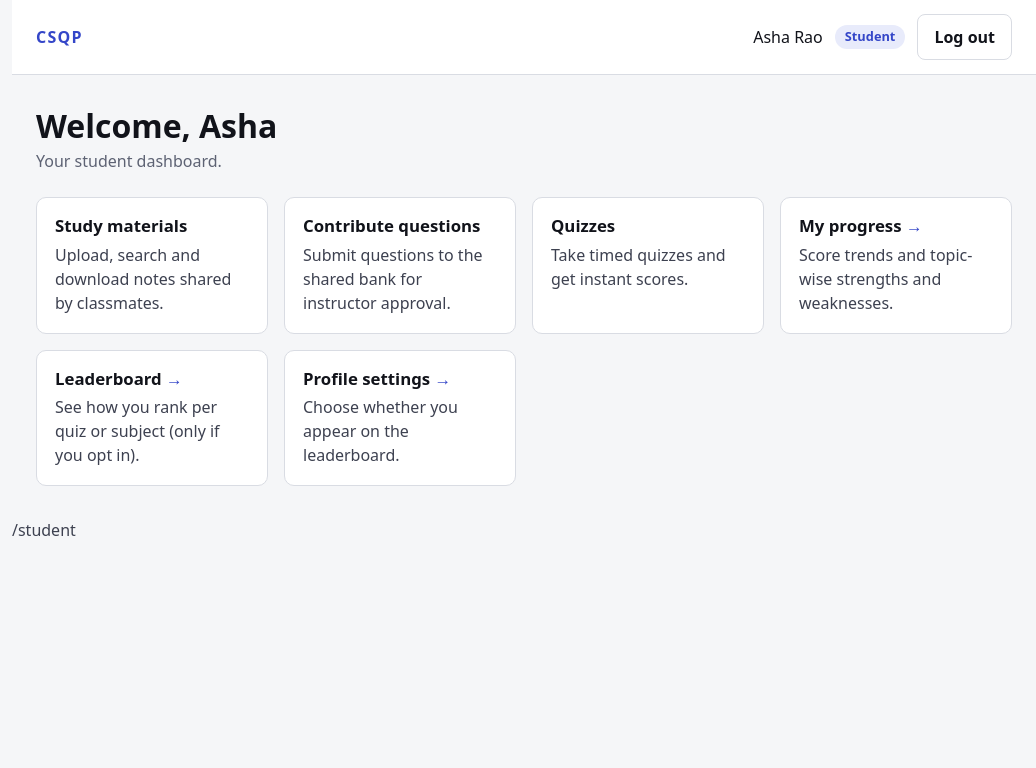
it: Leaderboard page (CSQP-29) › is linked from the student dashboard and ranks students with the viewer highlighted
The width and height of the screenshot is (1036, 768).
Click the link "Leaderboard" at (108, 378), box x1=55 y1=366 x2=162 y2=390
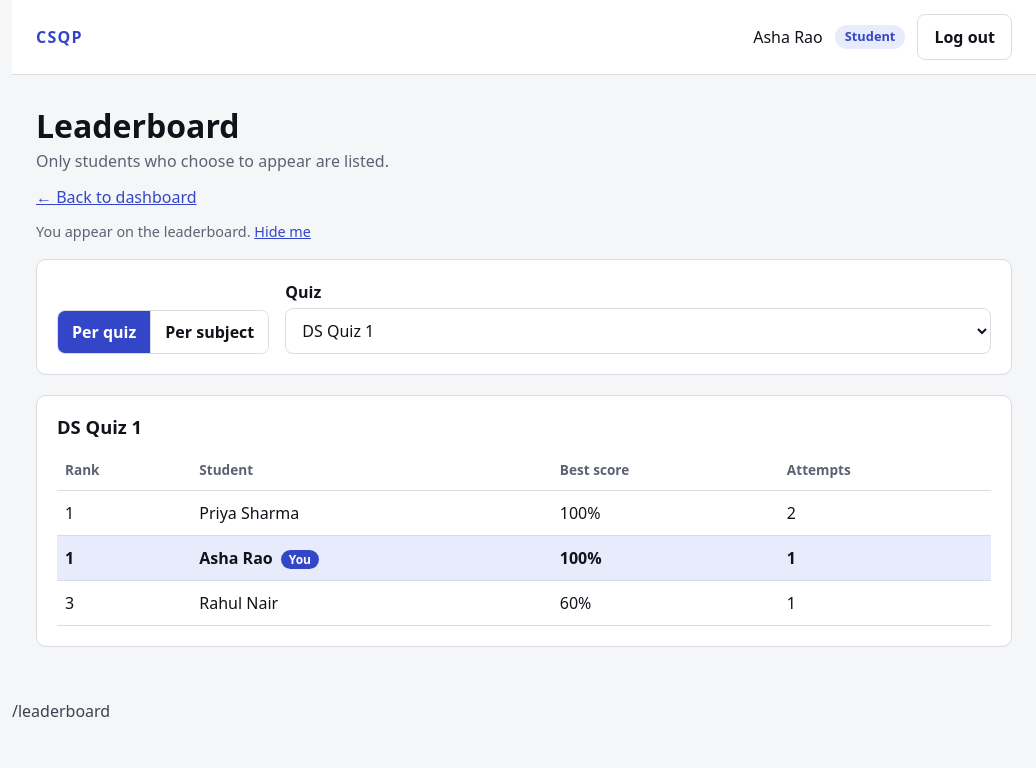
Now the number of rows is 4, box x1=57 y1=450 x2=991 y2=491; x1=57 y1=491 x2=991 y2=536; x1=57 y1=536 x2=991 y2=581; x1=57 y1=581 x2=991 y2=626
Now the row "1 Asha RaoYou 100% 1" is shown, box x1=57 y1=536 x2=991 y2=581
